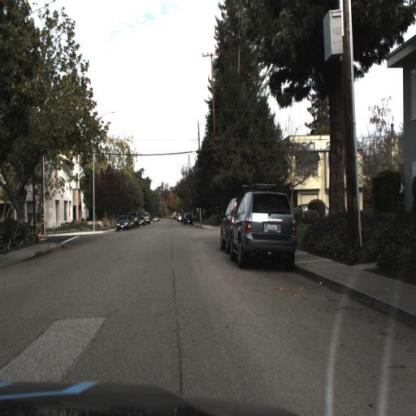car: (228, 180, 301, 278), (217, 189, 237, 267), (221, 197, 235, 259), (115, 214, 132, 235)
